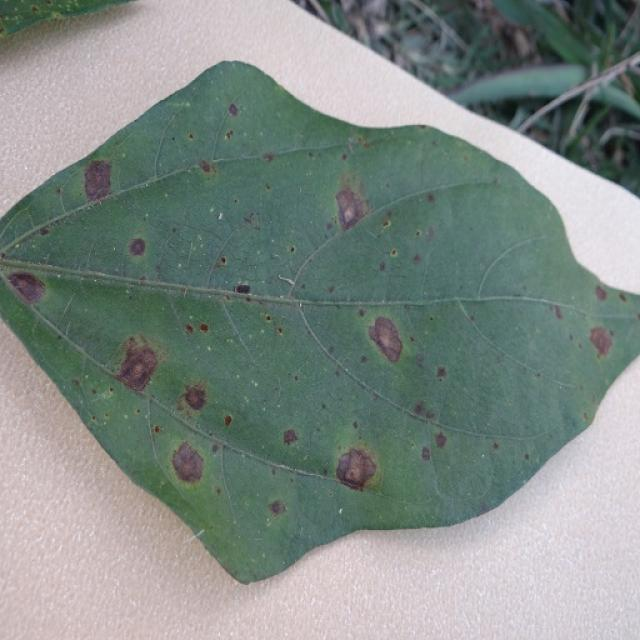Anthracnose: (342, 302, 427, 392), (326, 424, 388, 501), (107, 330, 170, 397), (225, 284, 284, 338), (331, 179, 366, 236), (170, 440, 206, 484), (6, 271, 47, 305), (83, 159, 113, 202), (588, 326, 614, 358), (182, 238, 197, 271), (183, 320, 211, 336), (91, 385, 116, 402), (128, 238, 146, 256), (244, 212, 260, 230), (268, 500, 286, 516), (60, 1, 84, 13), (163, 101, 192, 110), (199, 160, 215, 176), (283, 429, 298, 445), (550, 303, 563, 319), (595, 285, 608, 301), (5, 12, 22, 24), (435, 432, 447, 448), (234, 284, 251, 294), (214, 256, 227, 269), (228, 103, 239, 116), (353, 136, 367, 146), (262, 152, 275, 162), (425, 226, 435, 239), (421, 447, 431, 460), (0, 16, 7, 32), (412, 254, 422, 264), (224, 415, 233, 426), (39, 227, 50, 236), (618, 293, 627, 302), (357, 308, 366, 317), (479, 502, 488, 511), (427, 192, 435, 202), (51, 12, 62, 19), (225, 130, 233, 139), (360, 355, 368, 364), (212, 443, 219, 453), (211, 543, 218, 553), (225, 337, 235, 344), (288, 246, 296, 254), (390, 249, 398, 257), (492, 442, 500, 450), (327, 285, 335, 293), (72, 379, 80, 387), (352, 420, 358, 430), (379, 262, 385, 271), (341, 153, 348, 160), (245, 296, 252, 303), (55, 188, 61, 195), (524, 453, 530, 460), (252, 380, 258, 387), (583, 413, 588, 421), (32, 6, 38, 12), (188, 133, 194, 139), (293, 375, 299, 381), (209, 207, 215, 213), (0, 253, 6, 258), (121, 152, 126, 158), (14, 244, 19, 249), (92, 416, 96, 421), (234, 199, 238, 204)
Blackgram: (0, 61, 639, 586)
